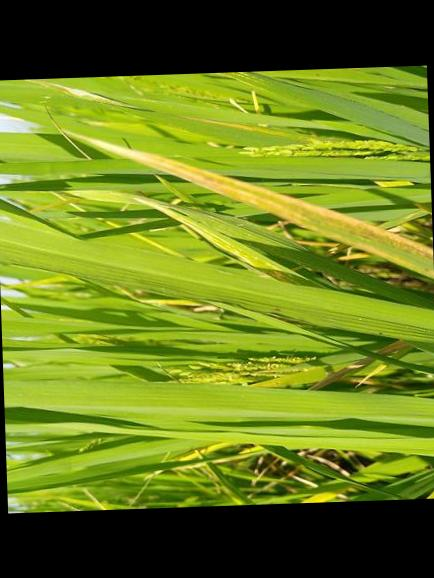Leaf Blight: (85, 136, 434, 280)
